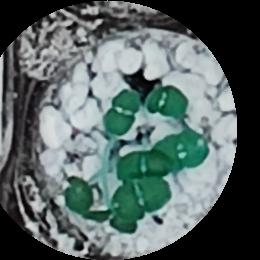Basil: (106, 179, 169, 221), (112, 147, 175, 183), (98, 88, 139, 138), (160, 133, 215, 162), (147, 80, 189, 114), (56, 179, 95, 215)
